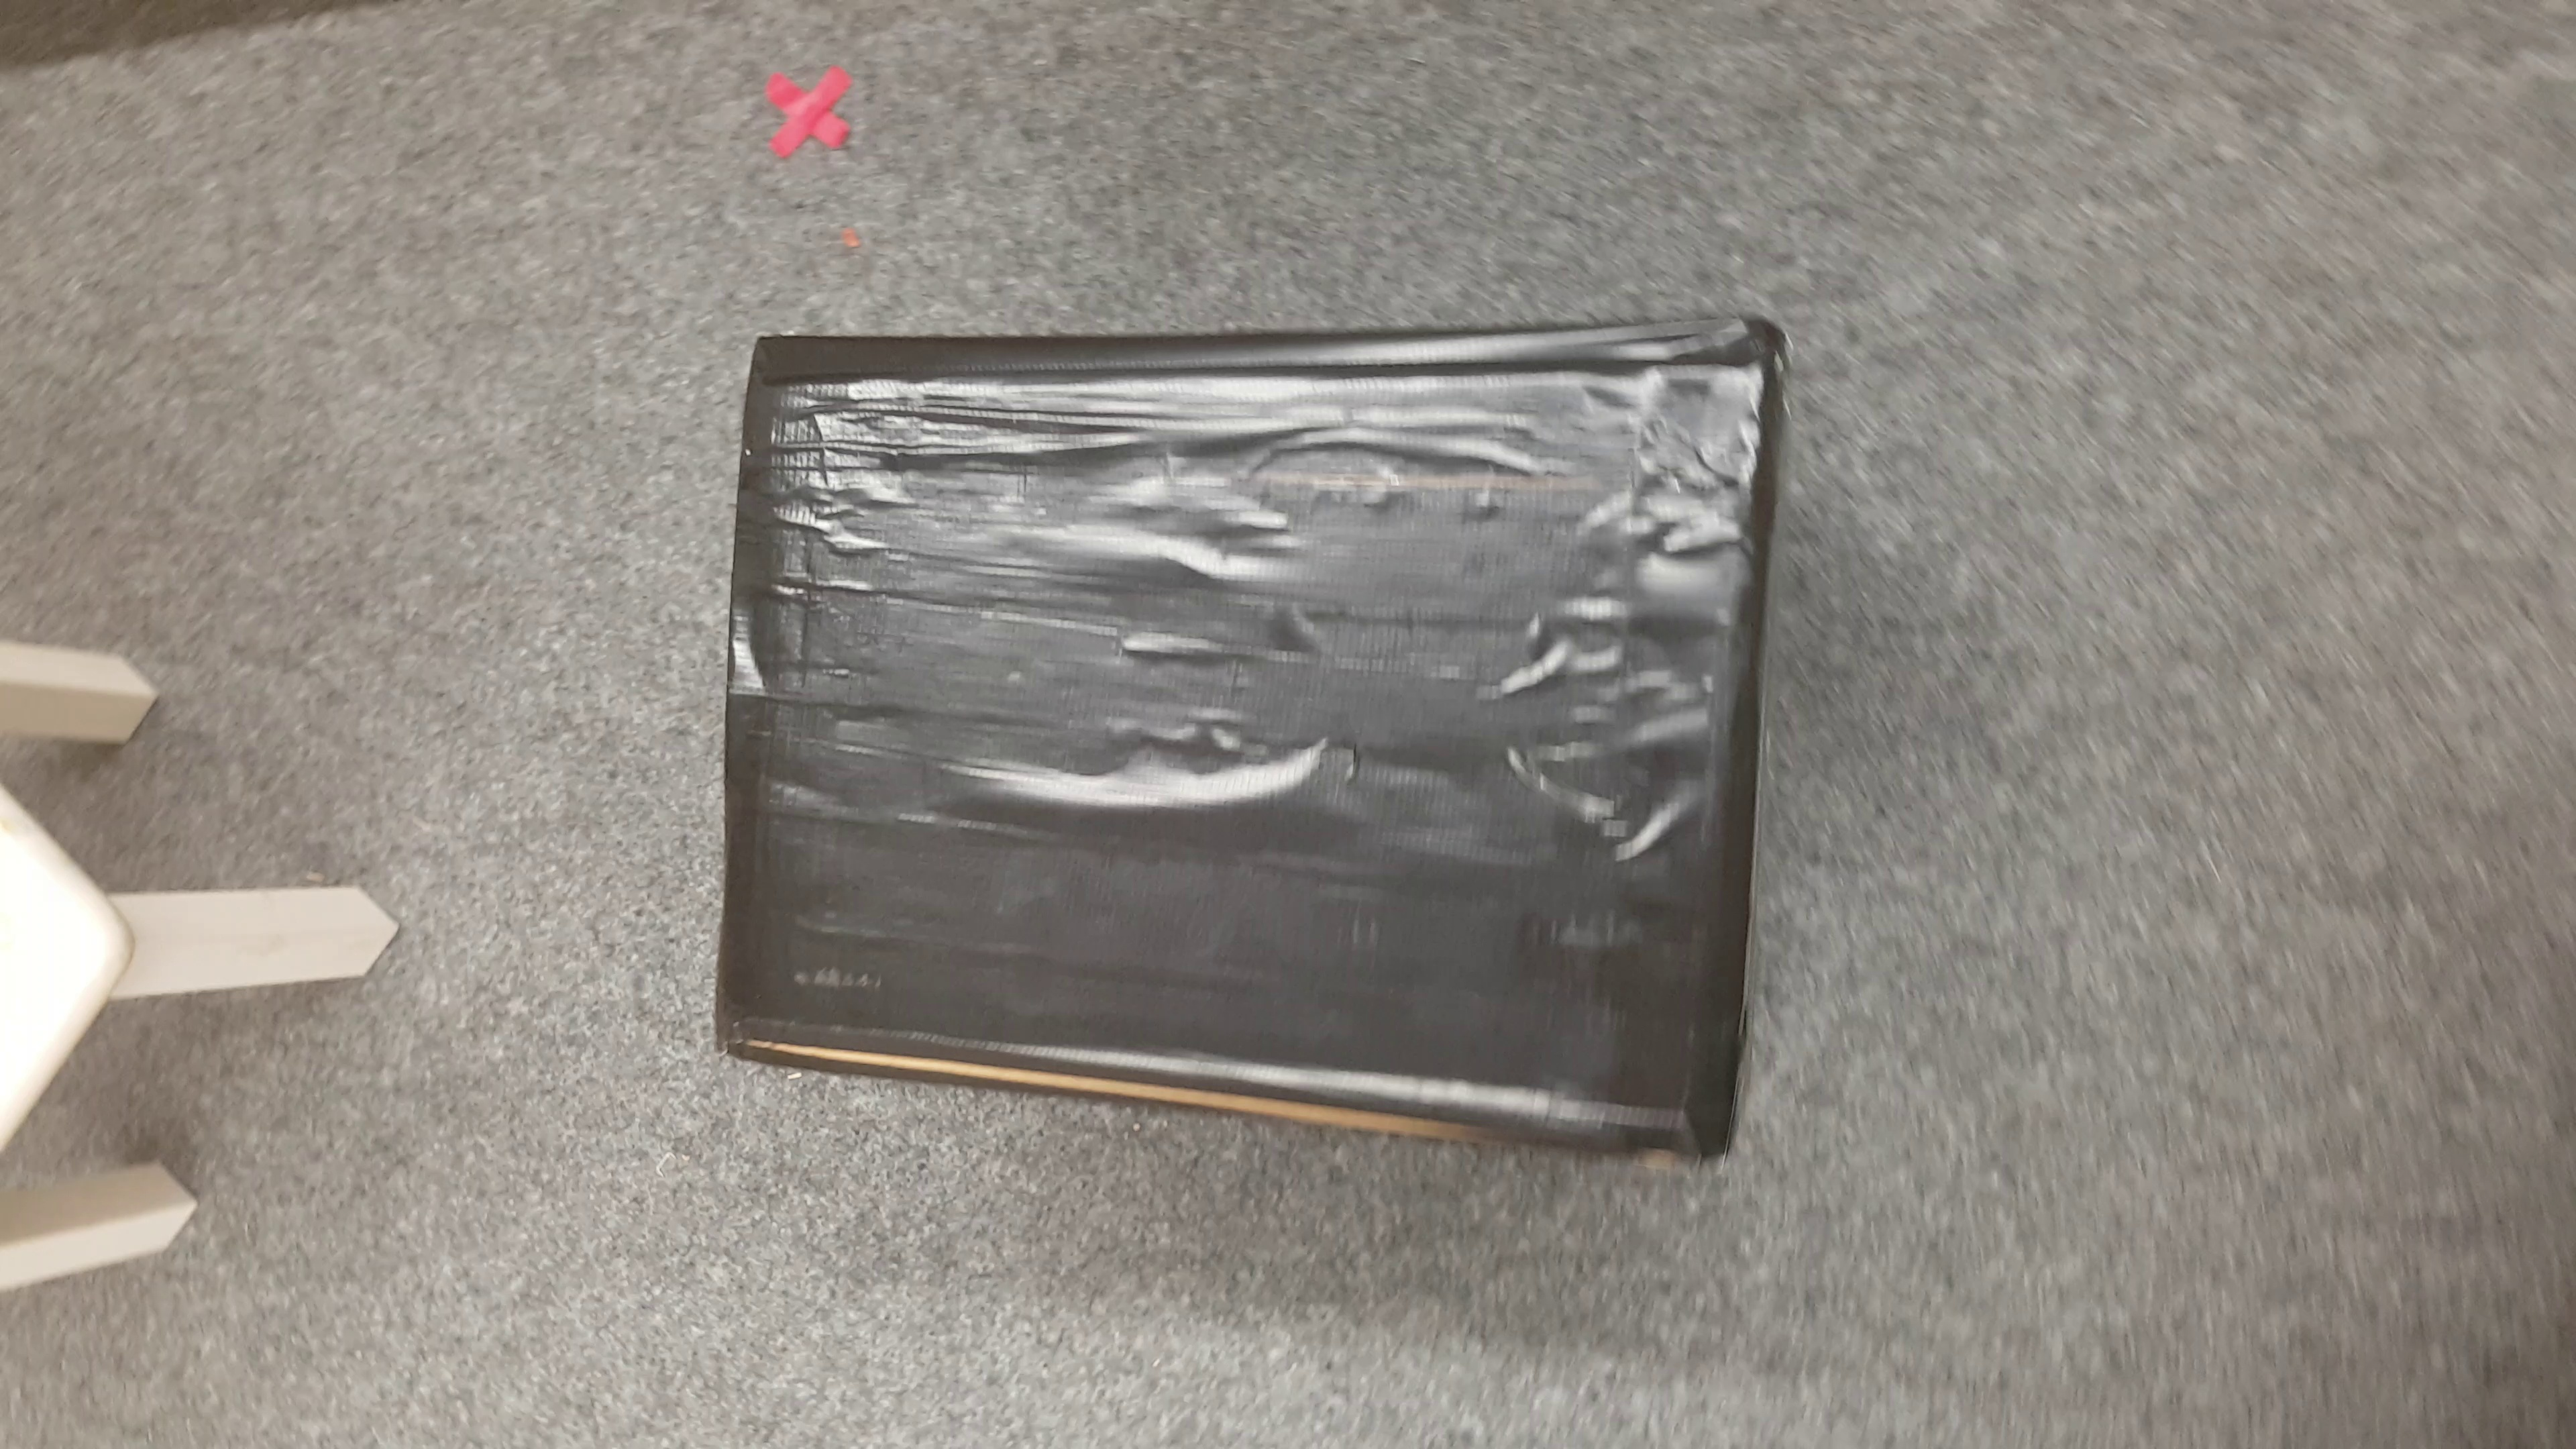push: (718, 326, 1775, 1180)
